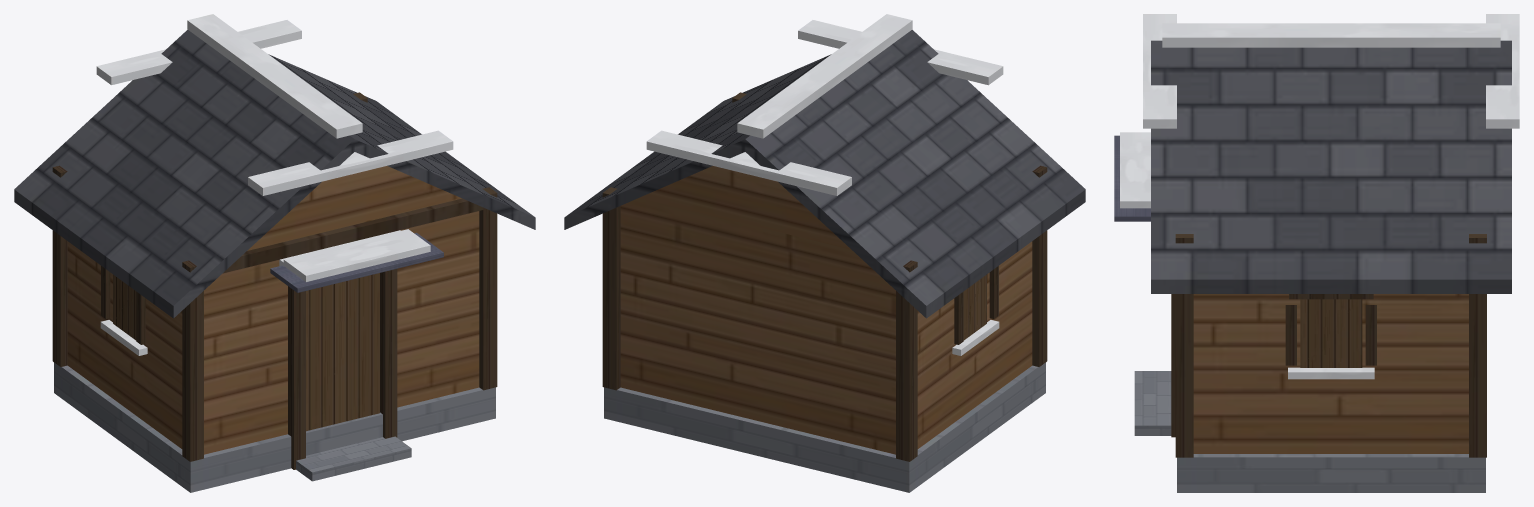
The model's file is ae_snow_wood_small_booth_lod0.glb.
3 views of the same model, side by side, from view 1: azimuth 30°, elevation 25°; view 2: azimuth 150°, elevation 25°; view 3: azimuth 270°, elevation 25° (orthographic). The views are drawn at different scales.
Visible parts, largest first — view 1: ae_snow_wood_small_booth_lod0; view 2: ae_snow_wood_small_booth_lod0; view 3: ae_snow_wood_small_booth_lod0.
Boxes of the visible parts, x1,y1,x2,y2 form: ae_snow_wood_small_booth_lod0: (14,14,535,492); ae_snow_wood_small_booth_lod0: (564,14,1085,492); ae_snow_wood_small_booth_lod0: (1114,14,1519,492).
Bounding box in the file's own units: 4.2 × 3.7 × 3.6.
1 material, 1 textured.
